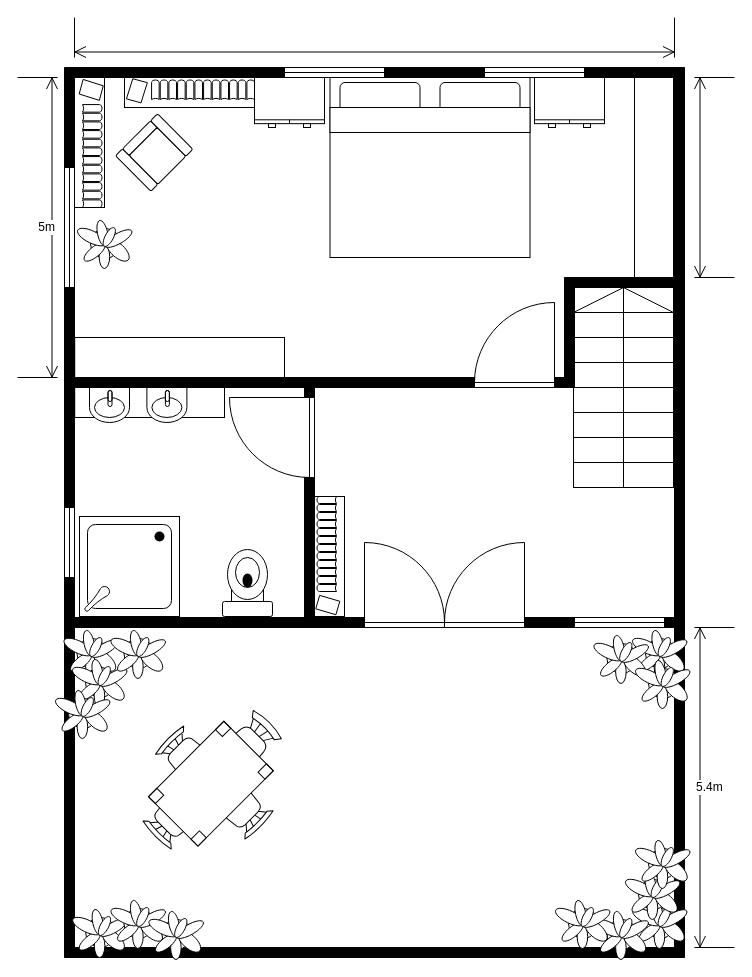
The diagram is 752 pixels wide and 977 high, and some of its shapes have lost their labels. The centre of each missing label's shape, as x and y in pixels:
2.1m: (714,177)
9m: (374,37)
